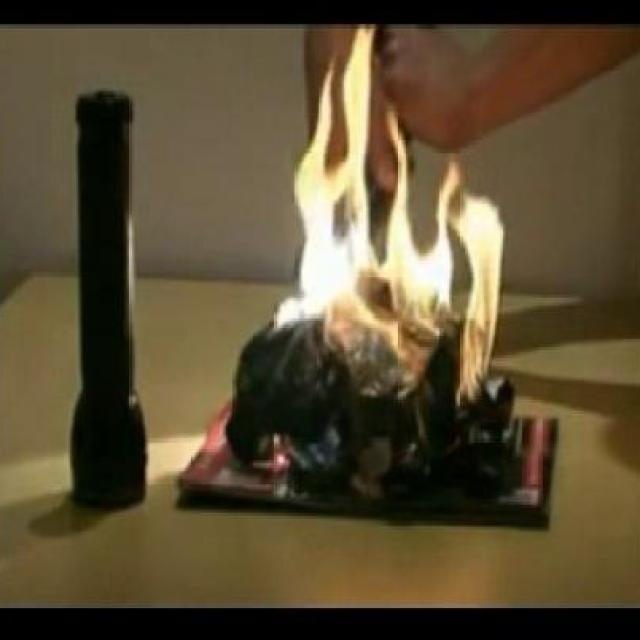smoke: (298, 21, 382, 380), (385, 101, 460, 386), (460, 182, 506, 408)
